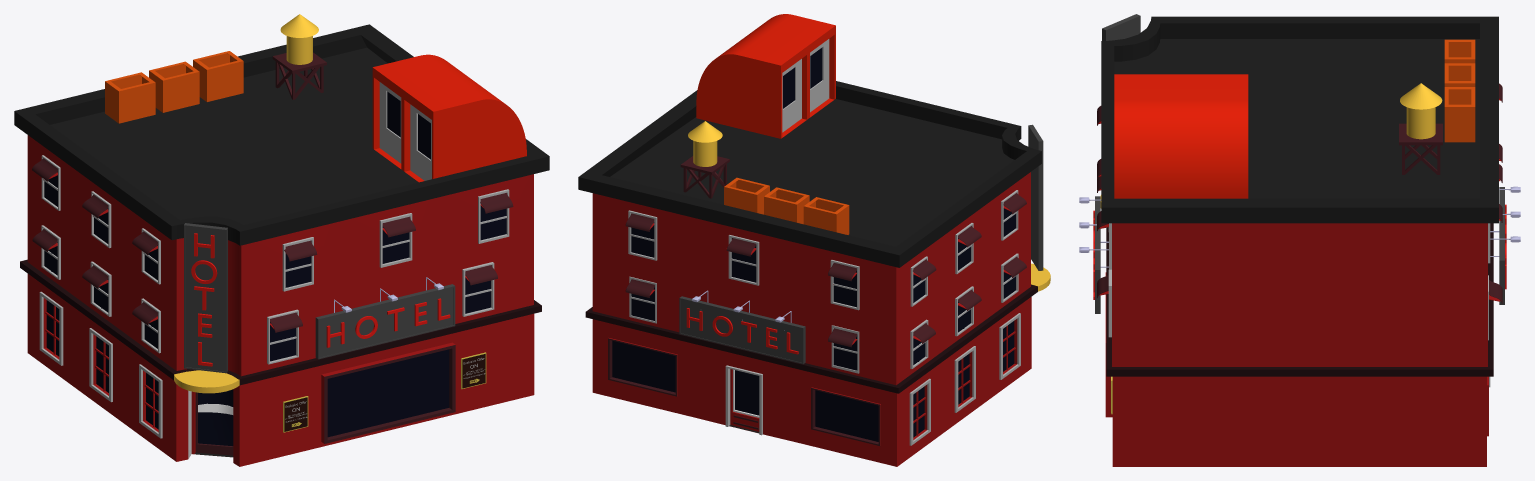
Rendered from Hotel.fbx.
3 views of the same model, side by side, from view 1: azimuth 30°, elevation 25°; view 2: azimuth 150°, elevation 25°; view 3: azimuth 270°, elevation 25° (orthographic). The views are drawn at different scales.
Visible parts, largest first — view 1: Plane.077; view 2: Plane.077; view 3: Plane.077.
Part boxes in pixels (x1=…): Plane.077: x1=14, y1=14, x2=549, y2=466; Plane.077: x1=578, y1=14, x2=1050, y2=466; Plane.077: x1=1079, y1=14, x2=1520, y2=466.
Size of the model in its own units: 1213 by 992 by 1170.
